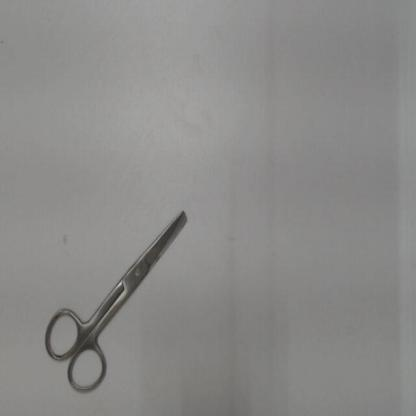Dressing Scissors: (35, 193, 202, 404)
